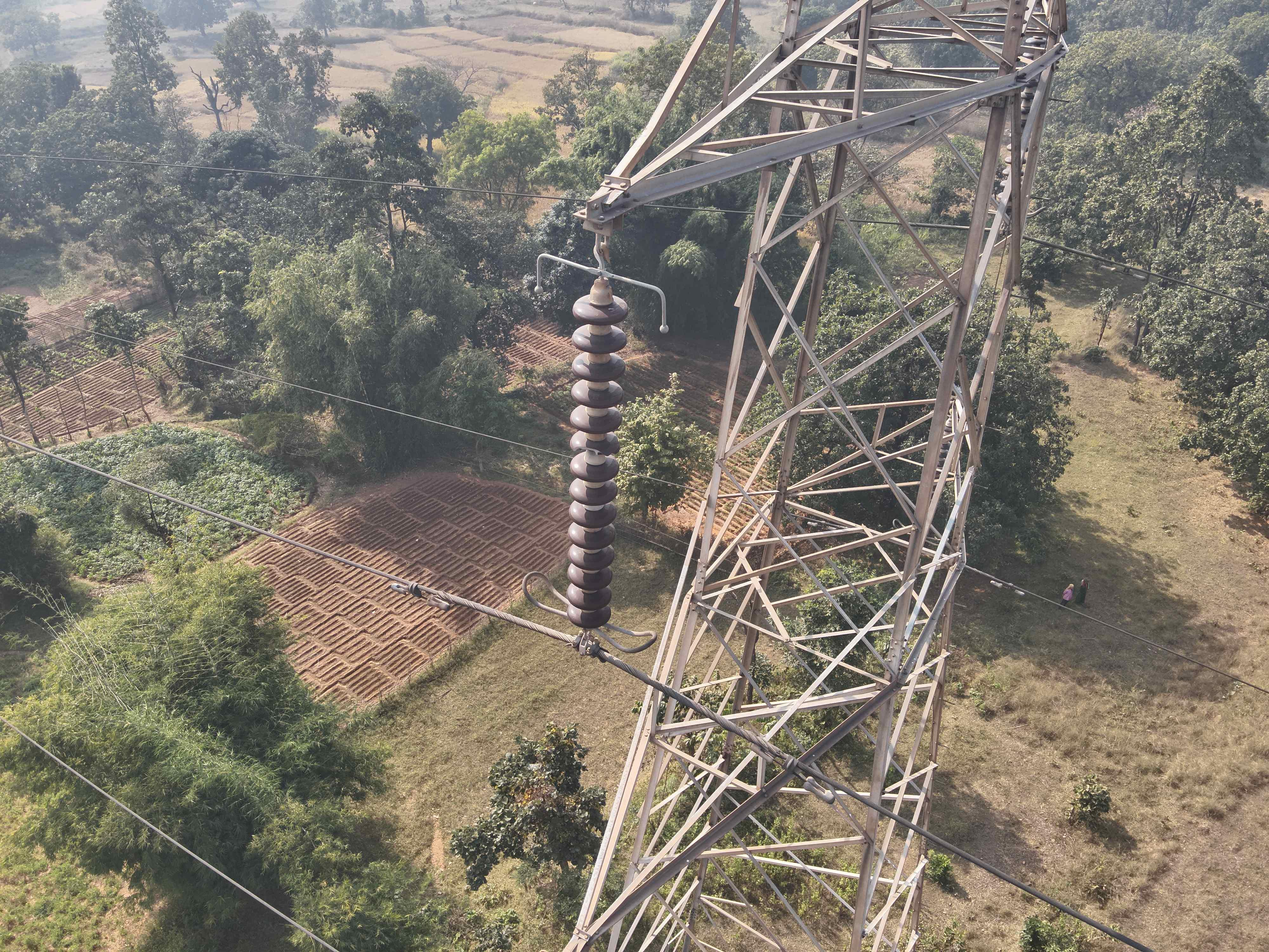broken_insulator: (560, 426, 627, 457)
